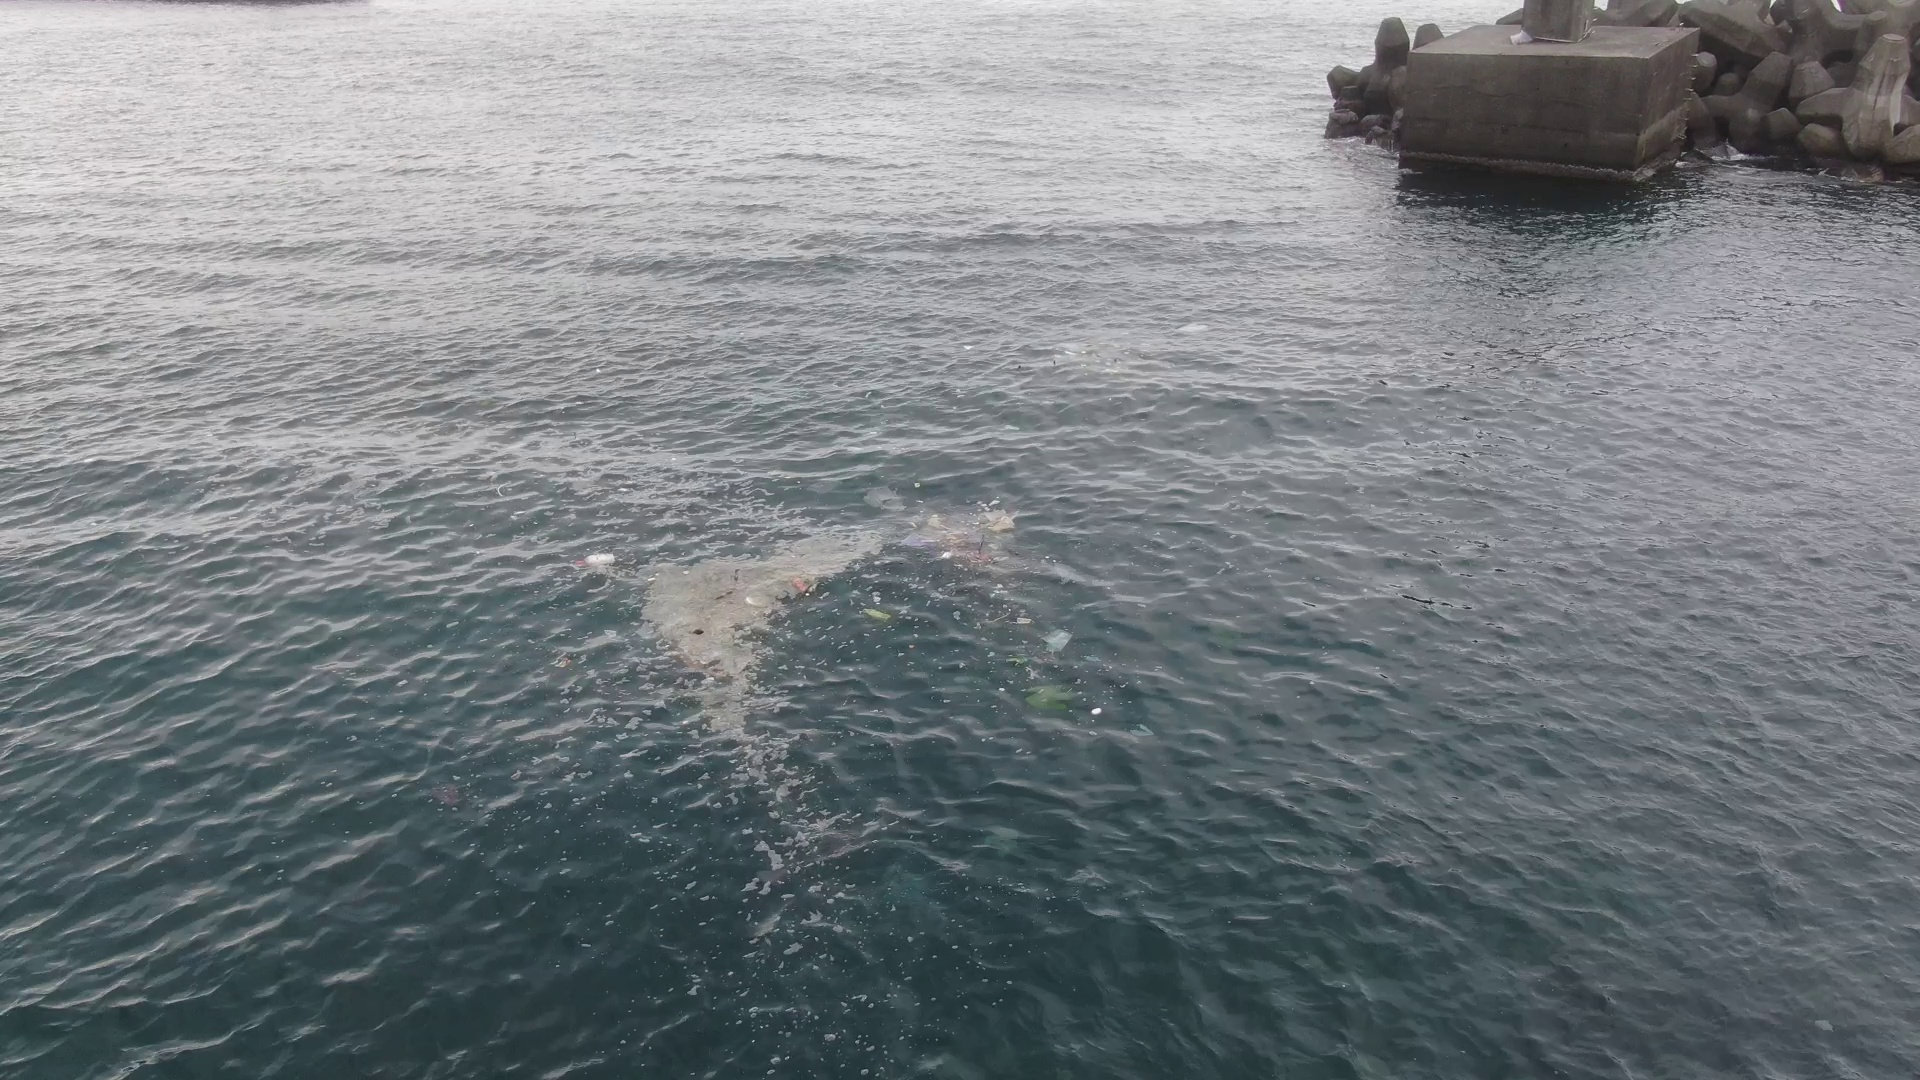garbage: (578, 488, 1116, 758), (430, 781, 462, 808), (553, 650, 571, 671)
